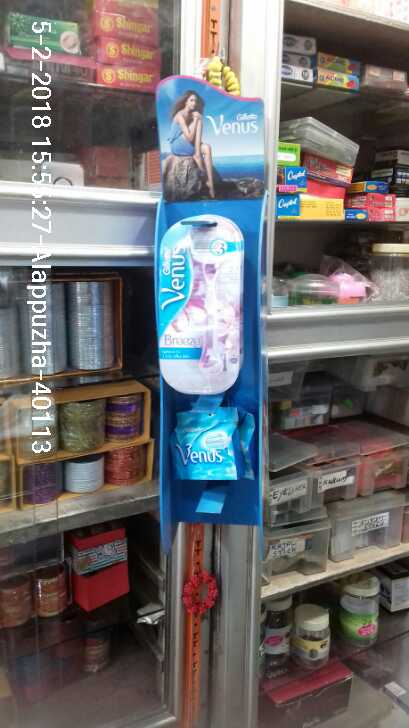venus: (154, 213, 246, 390), (166, 400, 242, 492)
